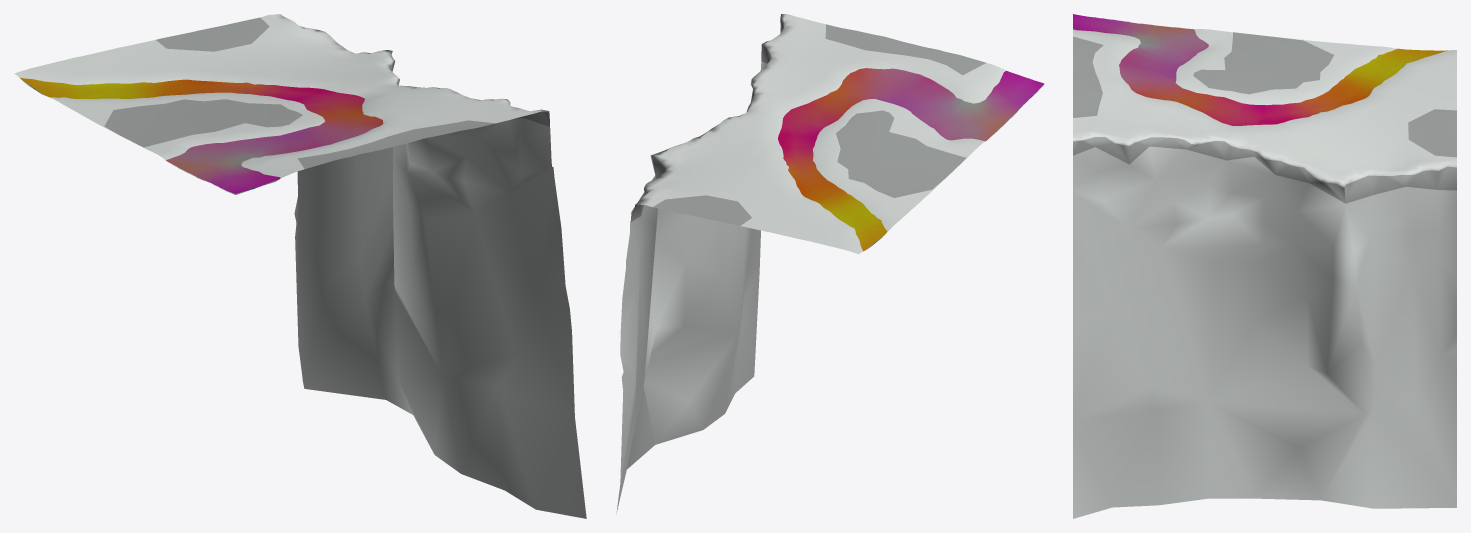
The picture shows the model from 3 angles, left to right: view 1: azimuth 30°, elevation 25°; view 2: azimuth 150°, elevation 25°; view 3: azimuth 270°, elevation 25°; orthographic projection. The views are drawn at different scales.
Parts seen in each view (by area): view 1: G:\FFXIV-MapTools\exports\r2f1\bg\ex1\01_roc_r2\fld\r2f1\bgp (×5); view 2: G:\FFXIV-MapTools\exports\r2f1\bg\ex1\01_roc_r2\fld\r2f1\bgp (×6); view 3: G:\FFXIV-MapTools\exports\r2f1\bg\ex1\01_roc_r2\fld\r2f1\bgp (×6).
Boxes of the visible parts, x1,y1,x2,y2 form: G:\FFXIV-MapTools\exports\r2f1\bg\ex1\01_roc_r2\fld\r2f1\bgp (×5): [14, 14, 586, 518]; G:\FFXIV-MapTools\exports\r2f1\bg\ex1\01_roc_r2\fld\r2f1\bgp (×6): [616, 14, 1044, 512]; G:\FFXIV-MapTools\exports\r2f1\bg\ex1\01_roc_r2\fld\r2f1\bgp (×6): [1073, 14, 1456, 518].
Size of the model in its own units: 117 by 139 by 128.
